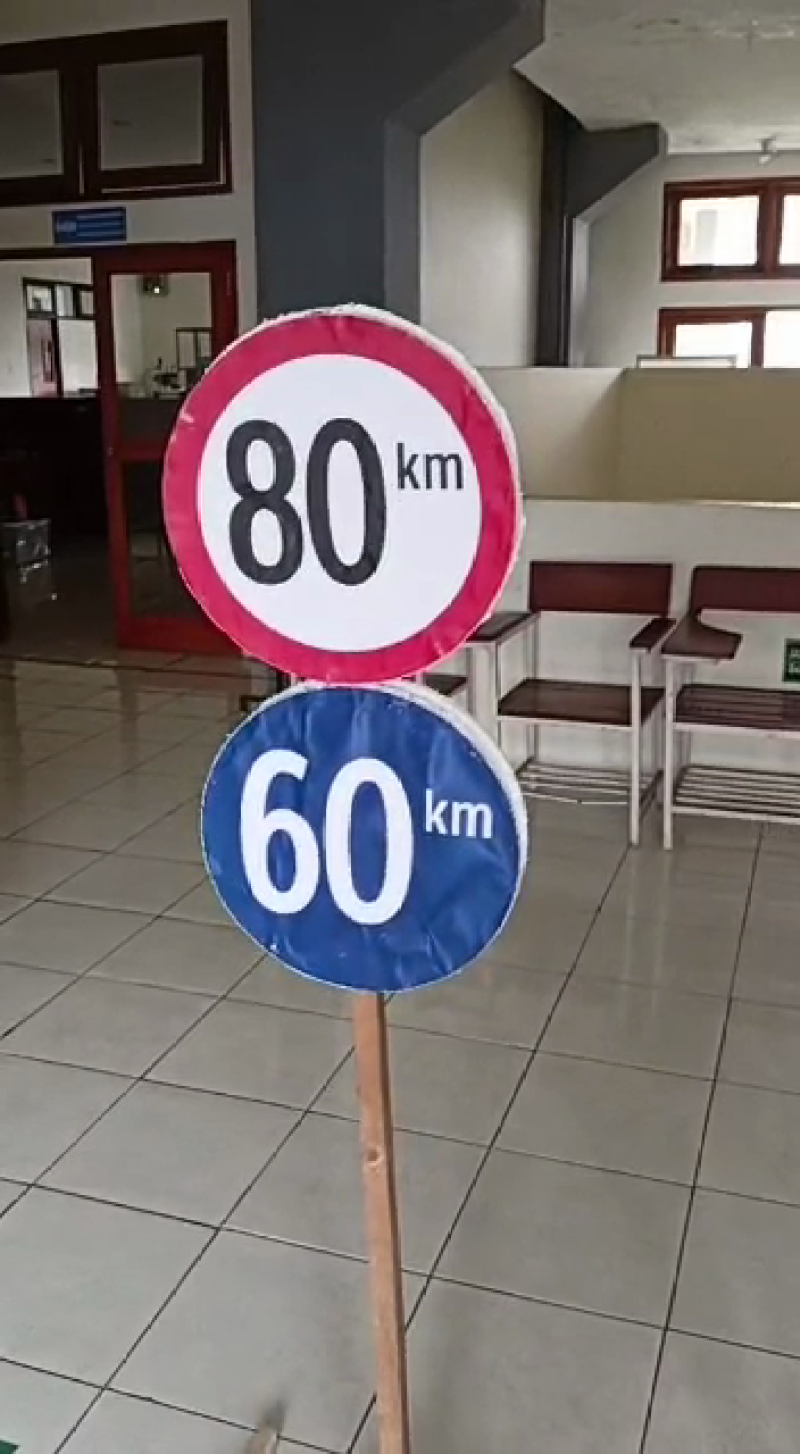batas maksimal 80kmperjam minimal 60kmperjam: (155, 298, 539, 999)
